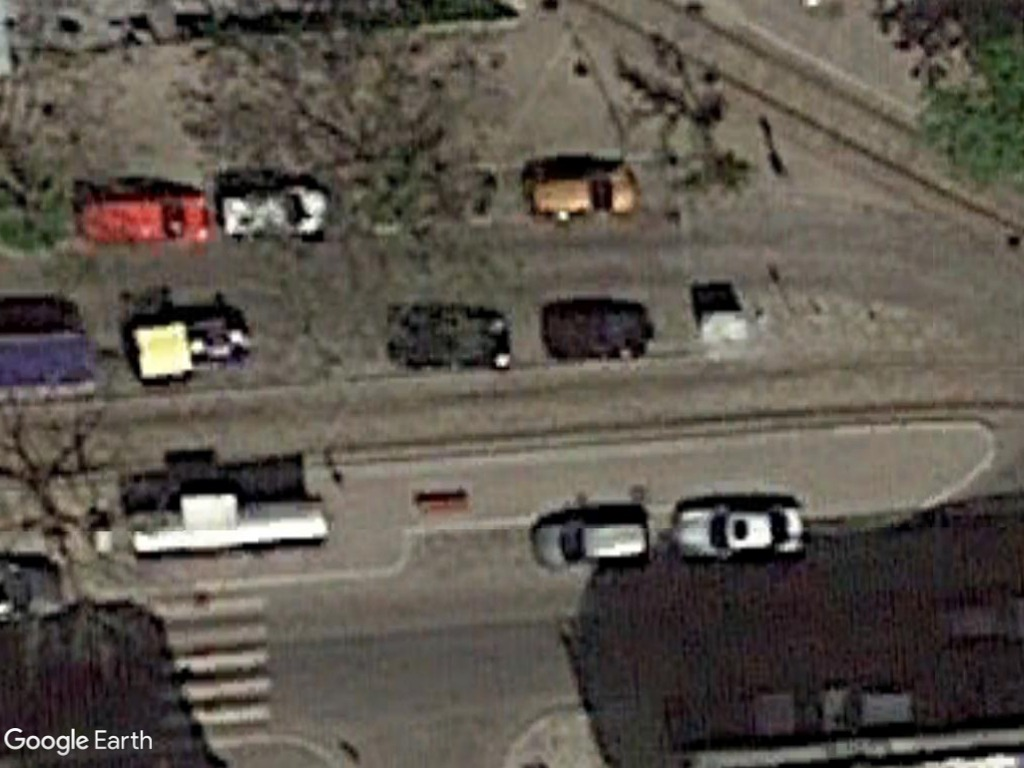car: (667, 501, 808, 563), (527, 512, 654, 572), (516, 163, 641, 223)
